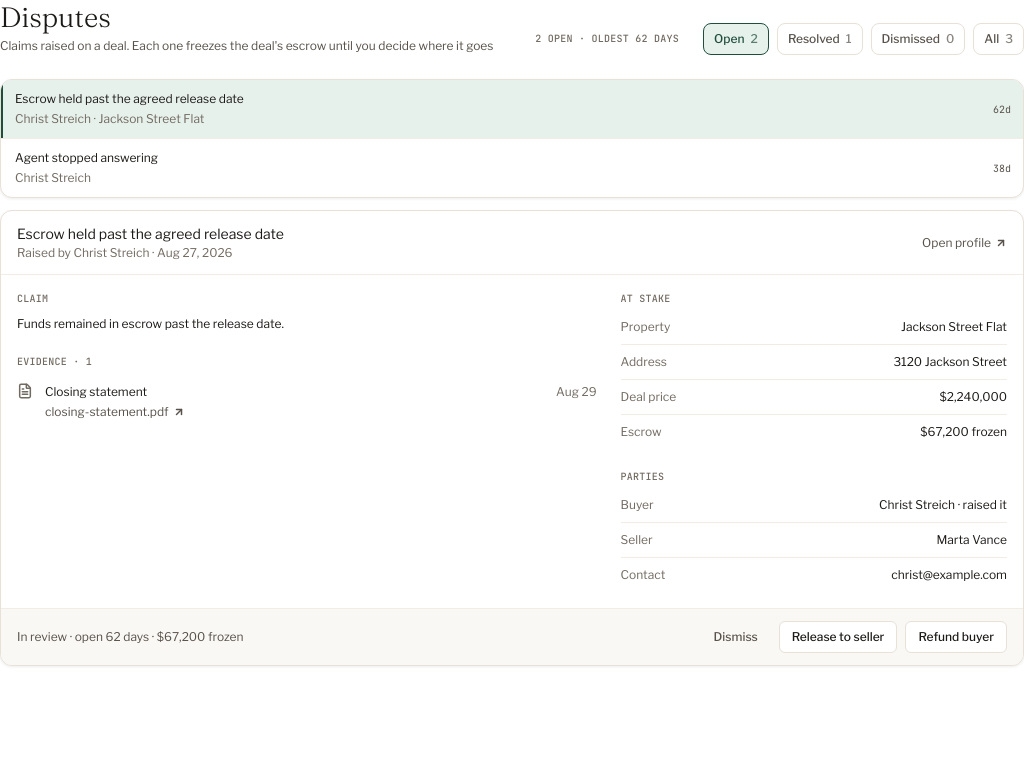
Test case: AdminDisputesConsole · 03 deciding › 3.3 cannot be confirmed until the note has four real characters
Click the button "Refund buyer".
click(956, 637)  # box [905,621,1007,653]
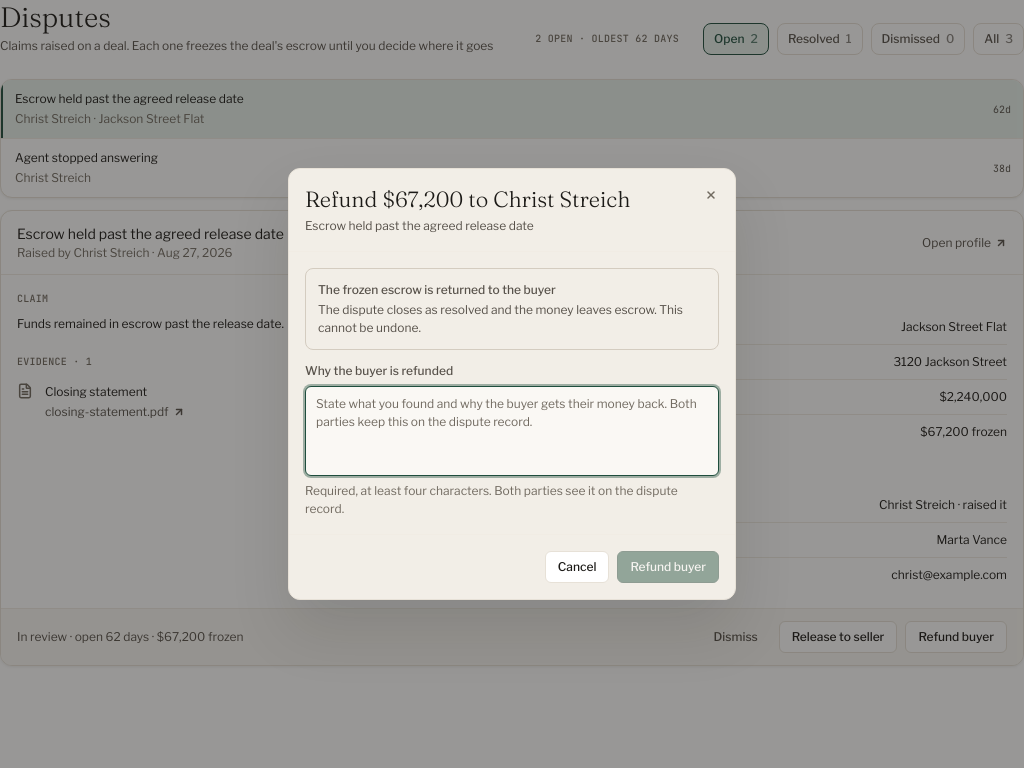
Expected: the button "Refund buyer" is disabled, [617,551,719,583]
Type "  abc  " into the text box labelled "Why the buyer is refunded".
click(512, 431); type("  abc  ")  # box [305,386,719,476]
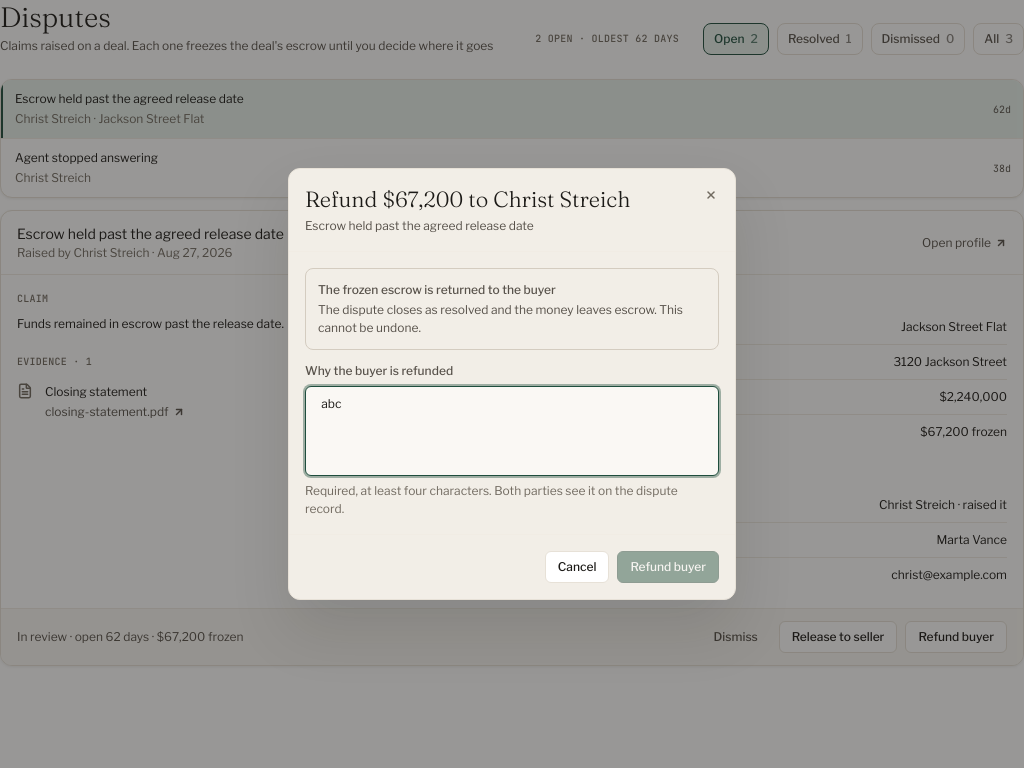
Expected: the button "Refund buyer" is disabled, [617,551,719,583]
Type "d" into the text box labelled "Why the buyer is refunded".
click(512, 431); type("d")  # box [305,386,719,476]
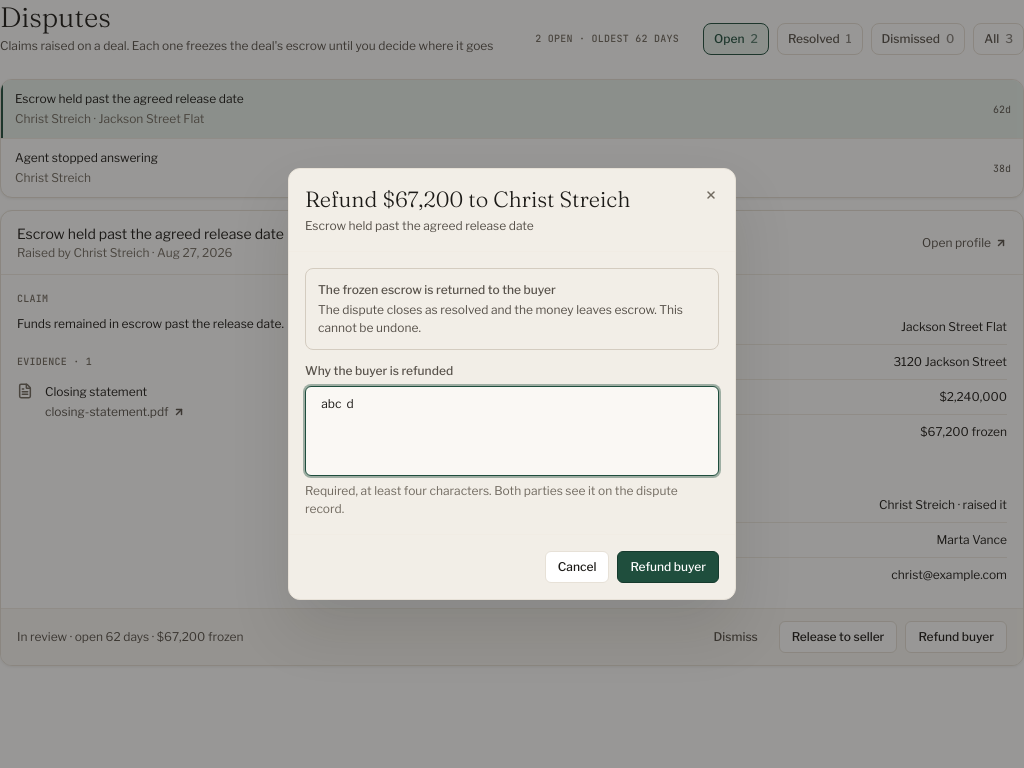
Expected: the button "Refund buyer" is enabled, [617,551,719,583]
